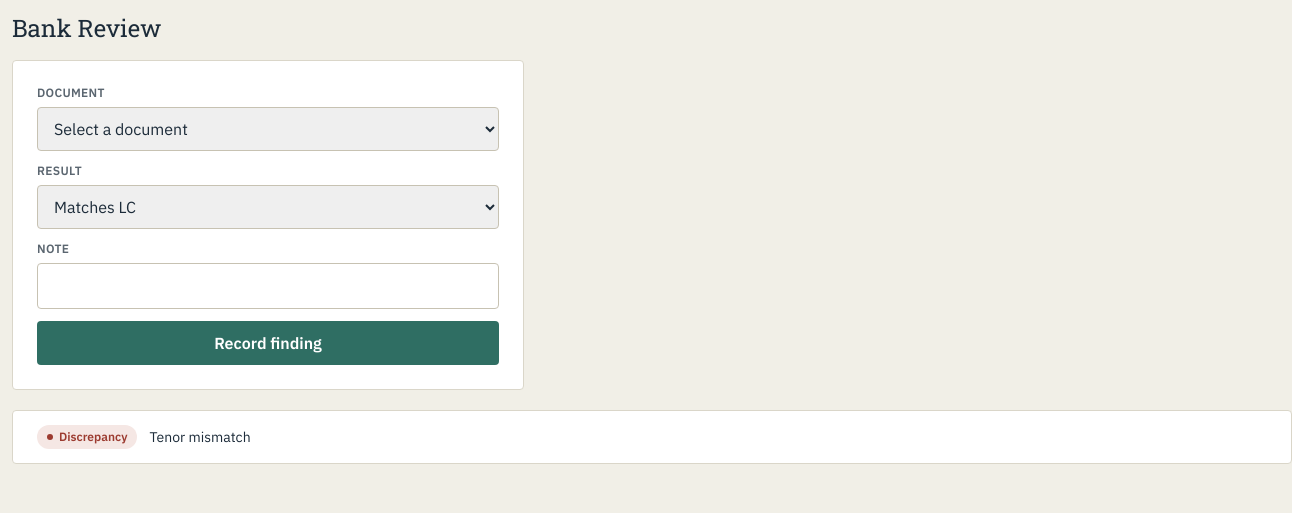
Scenario: TransactionBankReviewPage › shows an error message when recording a finding fails without losing the findings list
The image size is (1292, 513).
Expected: the text "Tenor mismatch" is shown, [150, 427, 251, 447]
Select "Bill of Exchange" in the dropdown labelled "Document": (268, 129) [37, 107, 499, 151]
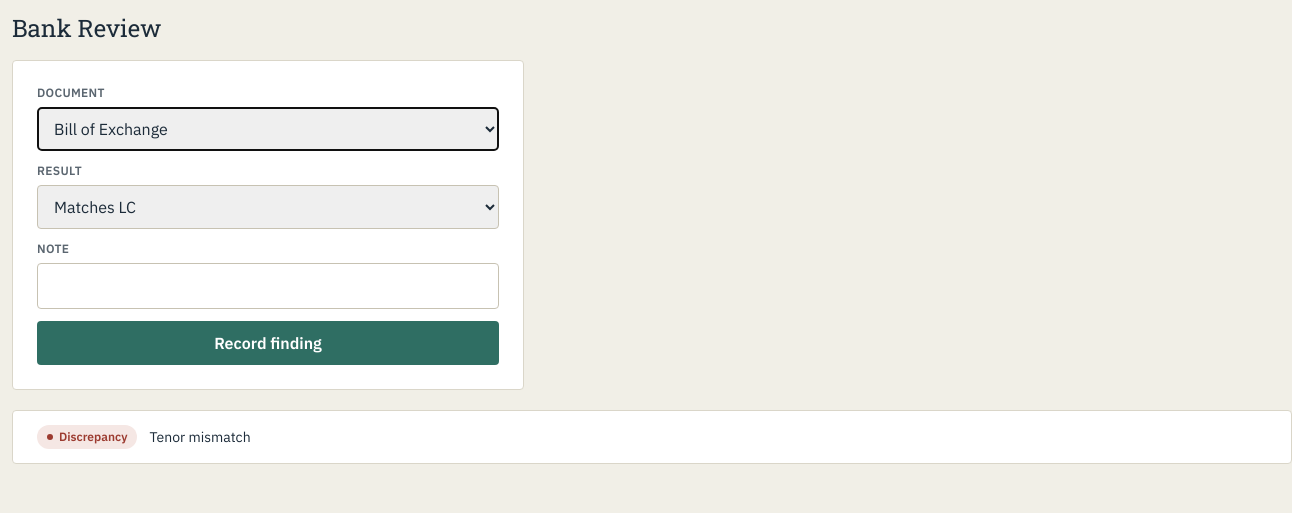
Click the button "Record finding": (268, 343) [37, 321, 499, 365]
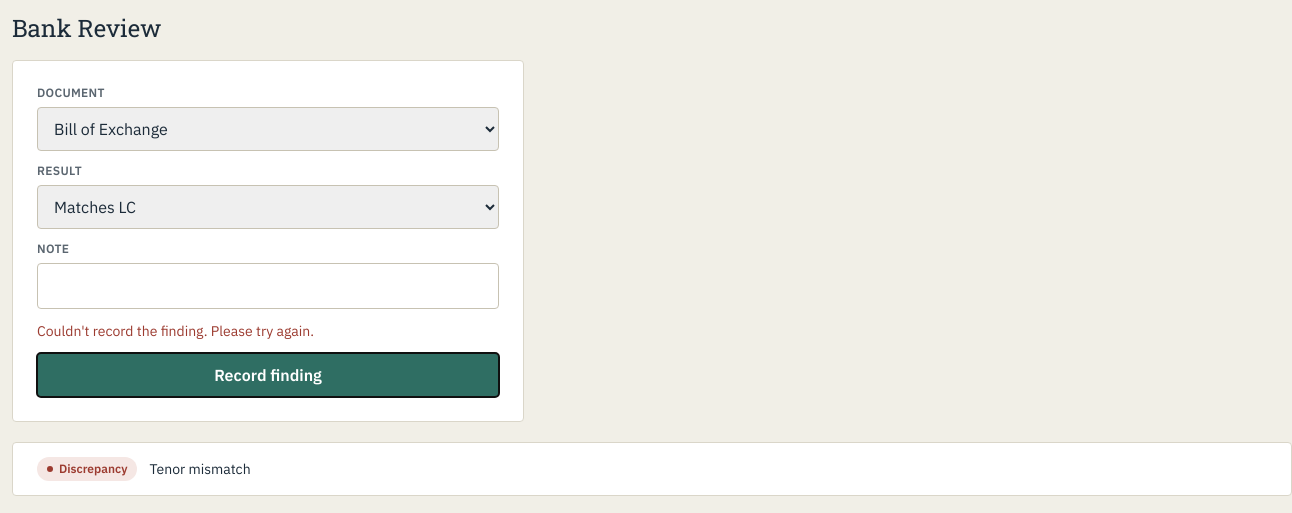
Expected: the text "Tenor mismatch" is shown, [150, 459, 251, 479]
Expected: the text "Couldn't record the finding. Please try again." is shown, [37, 322, 314, 340]
